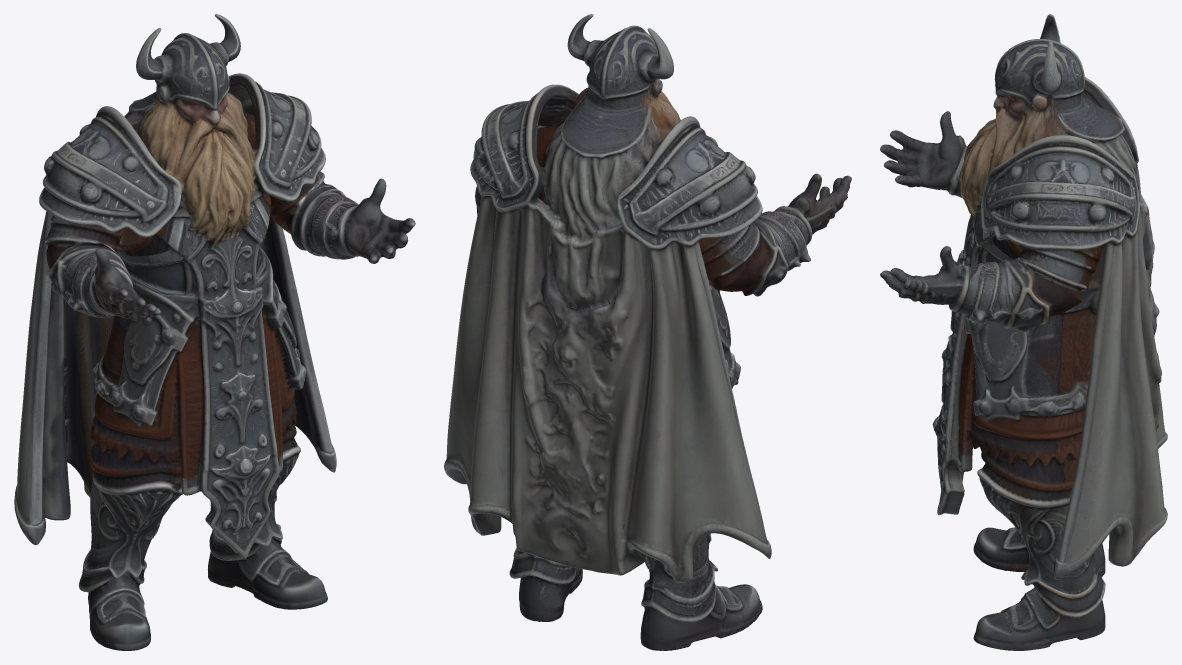
File: TX-a-stout-dwarven-paladin-510.glb
3 views of the same model, side by side, from view 1: azimuth 30°, elevation 25°; view 2: azimuth 150°, elevation 25°; view 3: azimuth 270°, elevation 25° (orthographic). The views are drawn at different scales.
Bounding box in the file's own units: 1.12 × 2 × 0.9107.
Materials: 1 (1 with a texture image).
